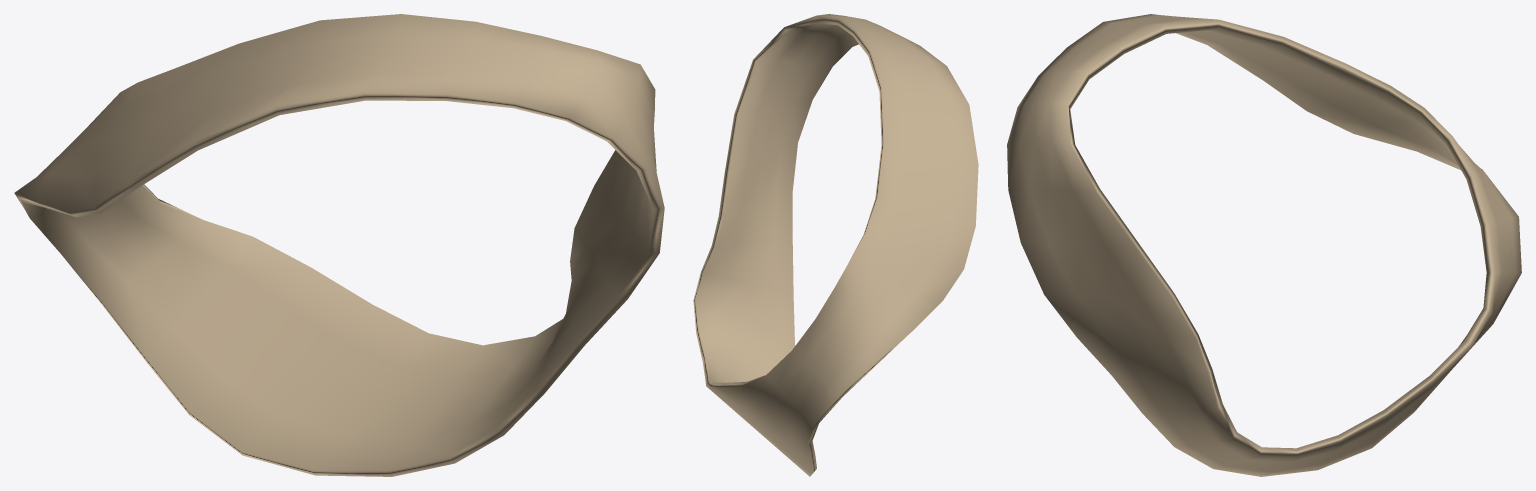
3 views of the same model, side by side, from view 1: azimuth 30°, elevation 25°; view 2: azimuth 150°, elevation 25°; view 3: azimuth 270°, elevation 25° (orthographic). The views are drawn at different scales.
Parts seen in each view (by area): view 1: 左侧胫腓上关节囊; view 2: 左侧胫腓上关节囊; view 3: 左侧胫腓上关节囊.
Boxes of the visible parts, box(x1,y1,x2,y2) form: 左侧胫腓上关节囊: box(14, 14, 664, 476); 左侧胫腓上关节囊: box(693, 14, 978, 476); 左侧胫腓上关节囊: box(1007, 14, 1521, 476).
Size of the model in its own units: 0.033 by 0.0379 by 0.0398.
